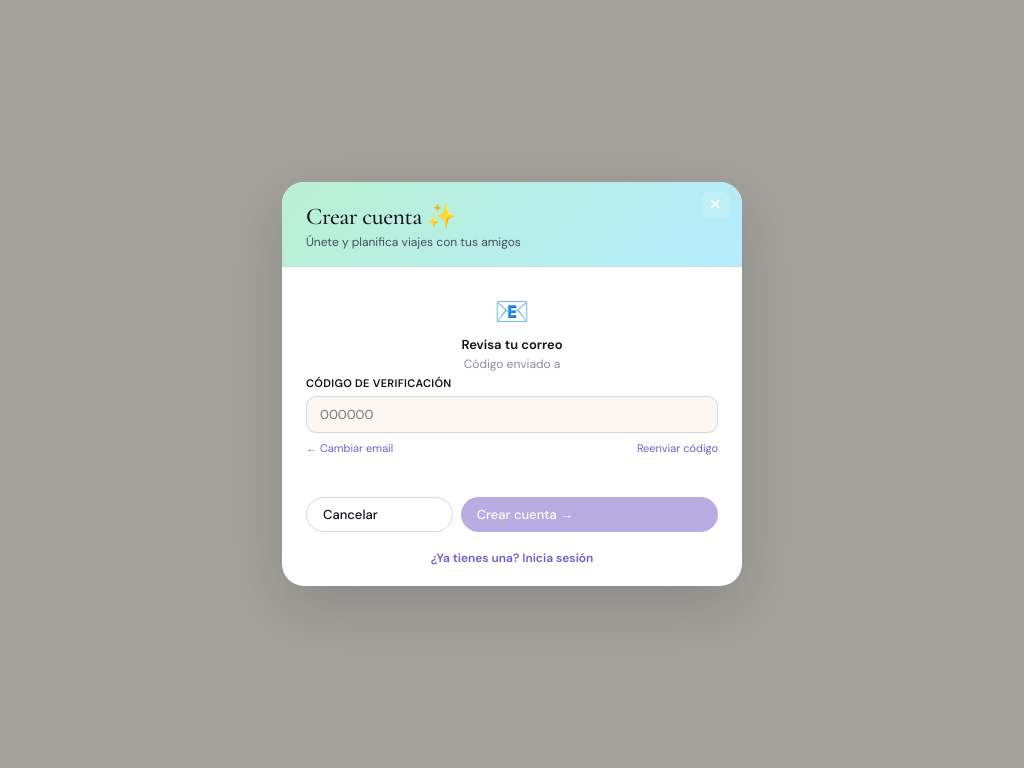
Scenario: AuthModalComponent — OTP input digit filtering › strips non-digit characters from typed input and keeps at most 6 digits — register OTP step
Step 1. Type "a1b2c3d4" into the field with placeholder "000000" → (512, 414), box [306, 396, 718, 433]
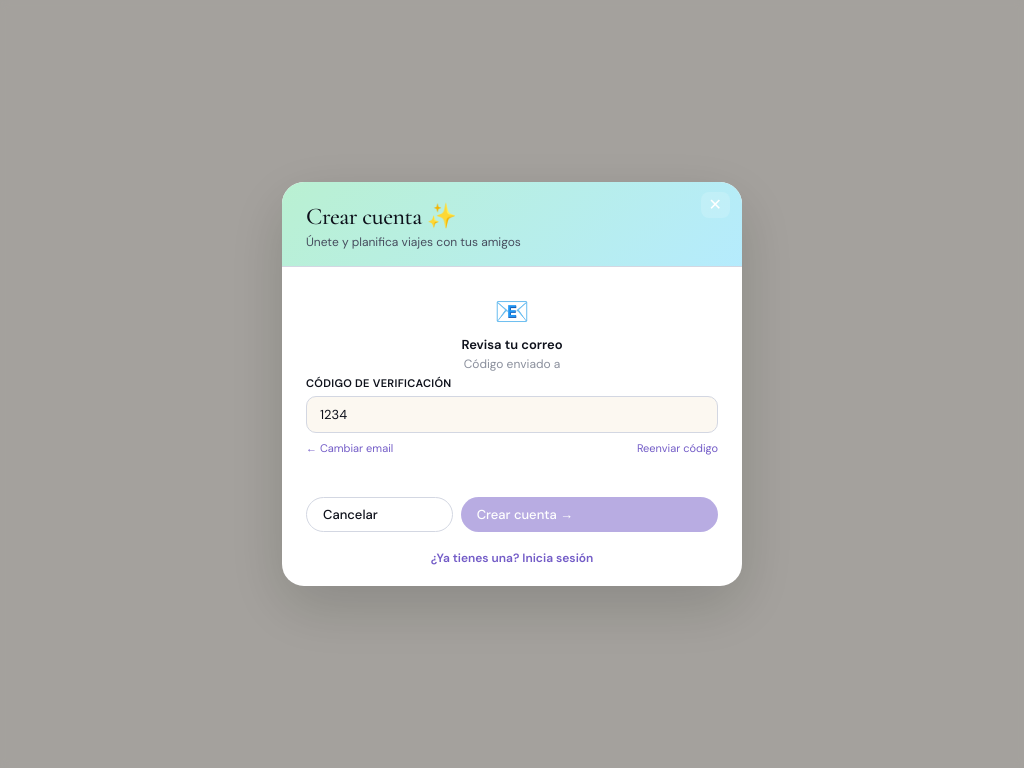
Expected: the field holds "1234", [306, 396, 718, 433]
